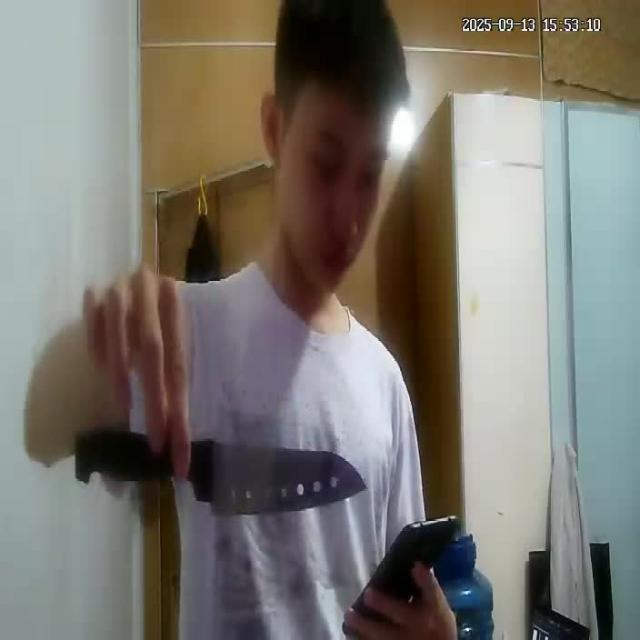senjata_tajam: (71, 423, 369, 513)
